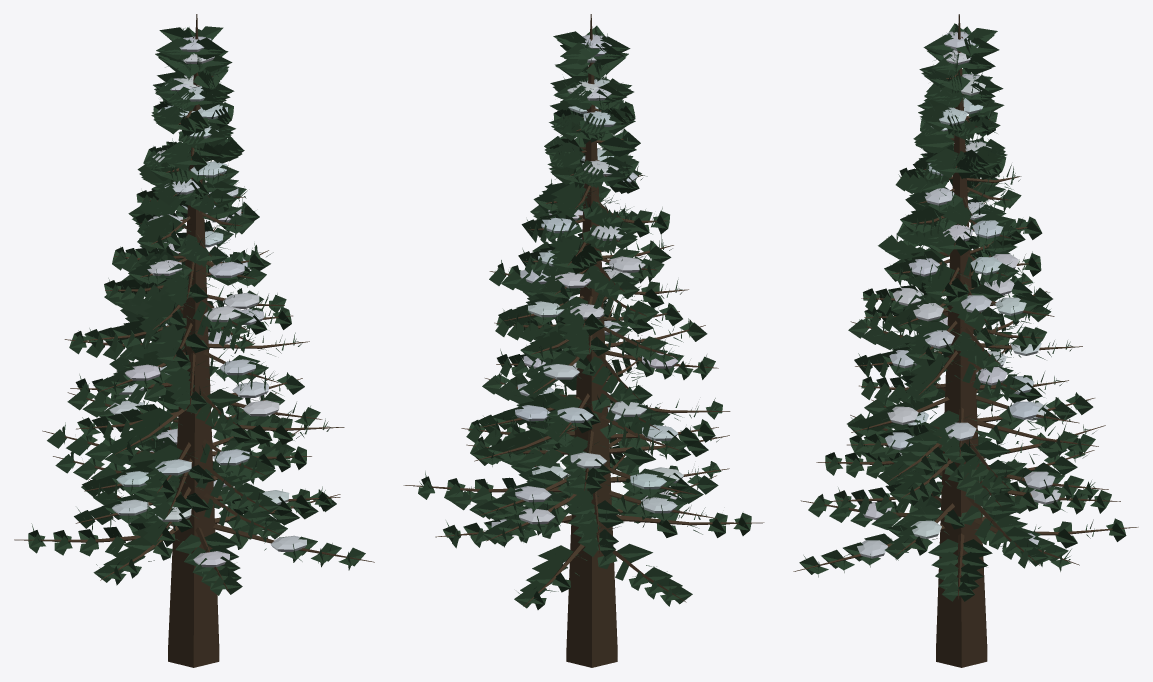
File: pc_fir_2_lod1.glb
3 renders of one model, left to right at view 1: azimuth 30°, elevation 25°; view 2: azimuth 150°, elevation 25°; view 3: azimuth 270°, elevation 25°, orthographic.
Visible parts, largest first — view 1: pc_fir_2_lod1; view 2: pc_fir_2_lod1; view 3: pc_fir_2_lod1.
Boxes of the visible parts, x1,y1,x2,y2 form: pc_fir_2_lod1: (14,14,374,667); pc_fir_2_lod1: (403,14,764,667); pc_fir_2_lod1: (793,14,1138,667).
Bounding box in the file's own units: 4.92 × 10.5 × 5.12.
